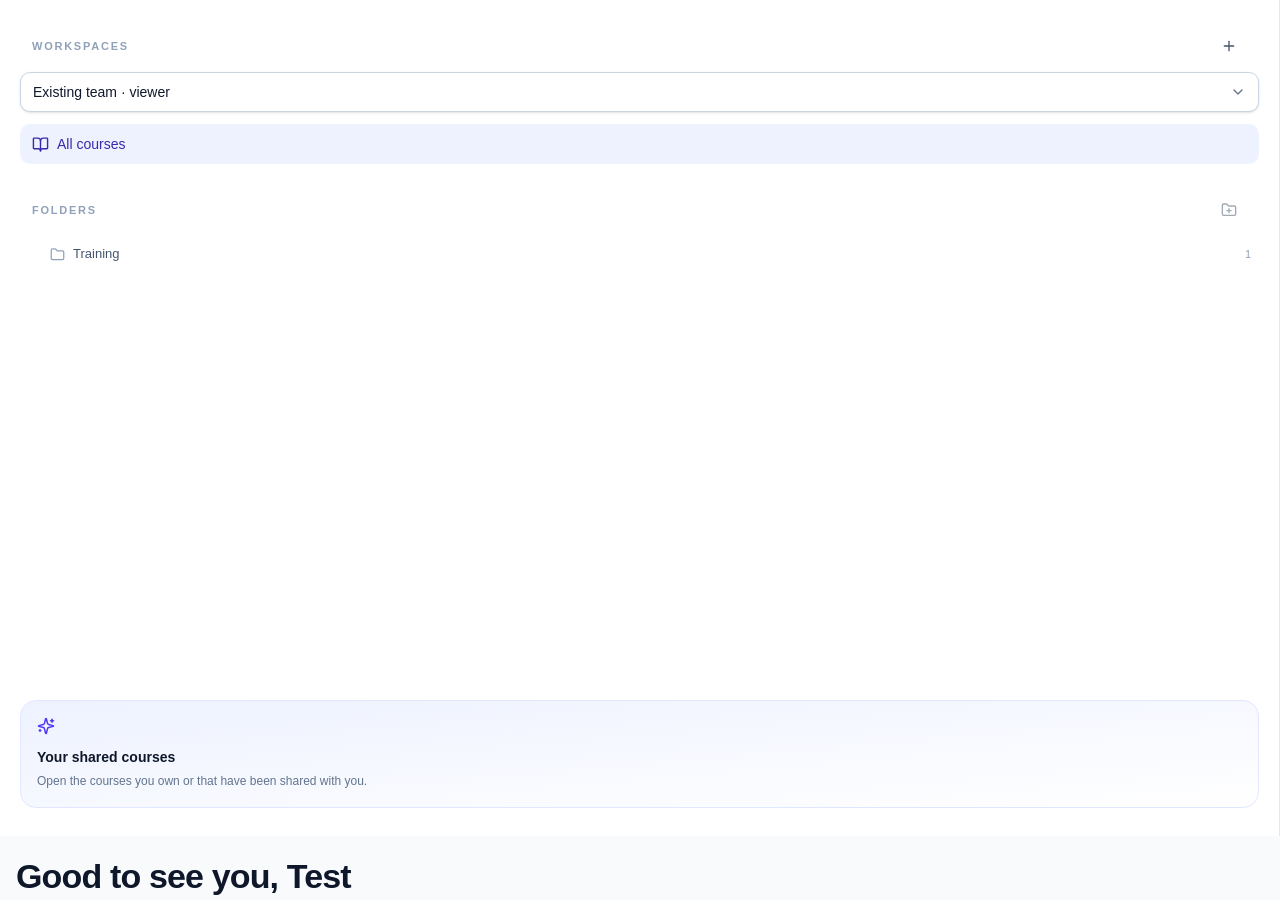
Test: dashboard loading and shared controls › creates a new workspace even when the current workspace grants viewer access
Step 1. Click the button named "Create team workspace" → point(1229, 46), box x1=1211 y1=28 x2=1247 y2=64
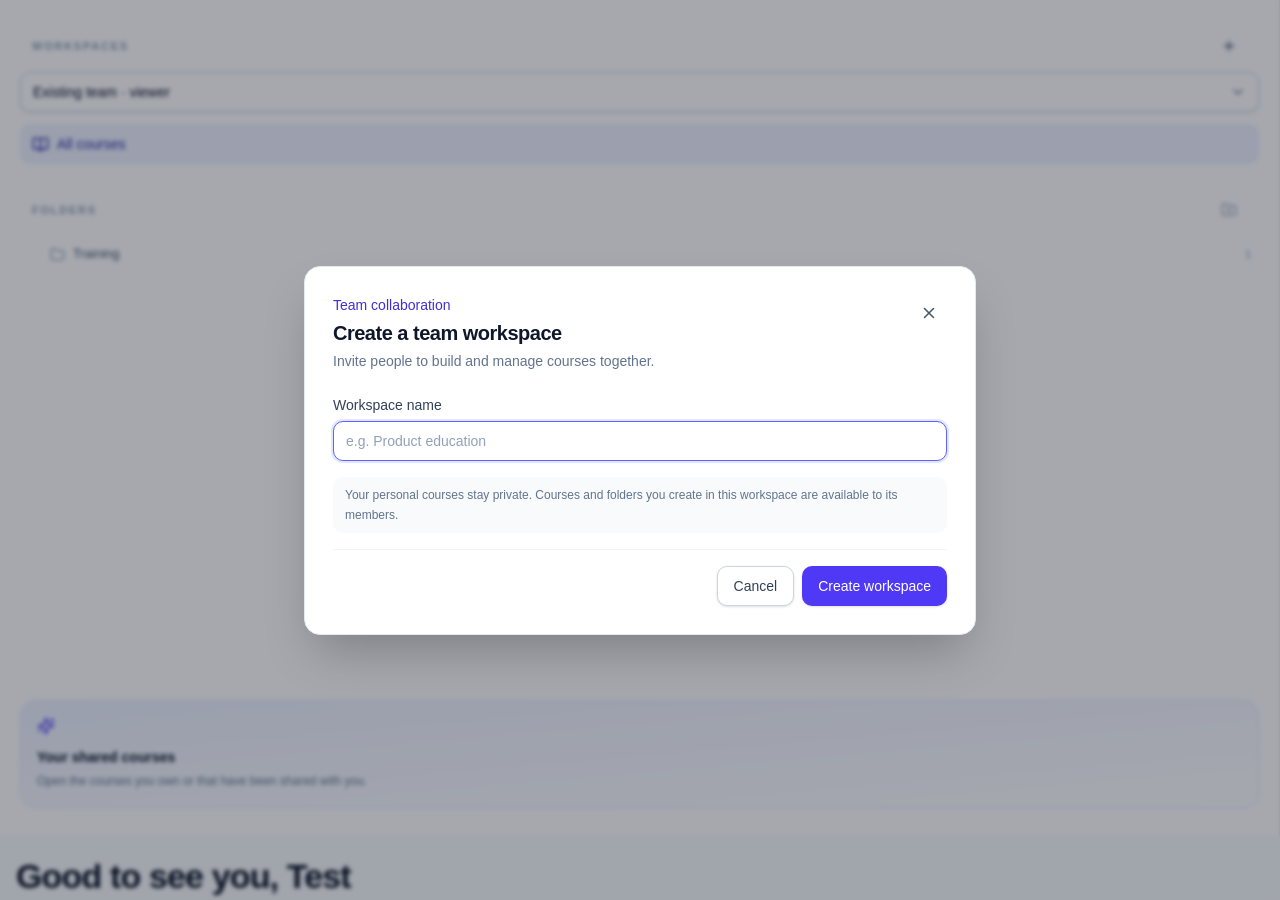
Step 2. Type "New team" into the field named "name" → point(640, 440), box x1=333 y1=420 x2=947 y2=460
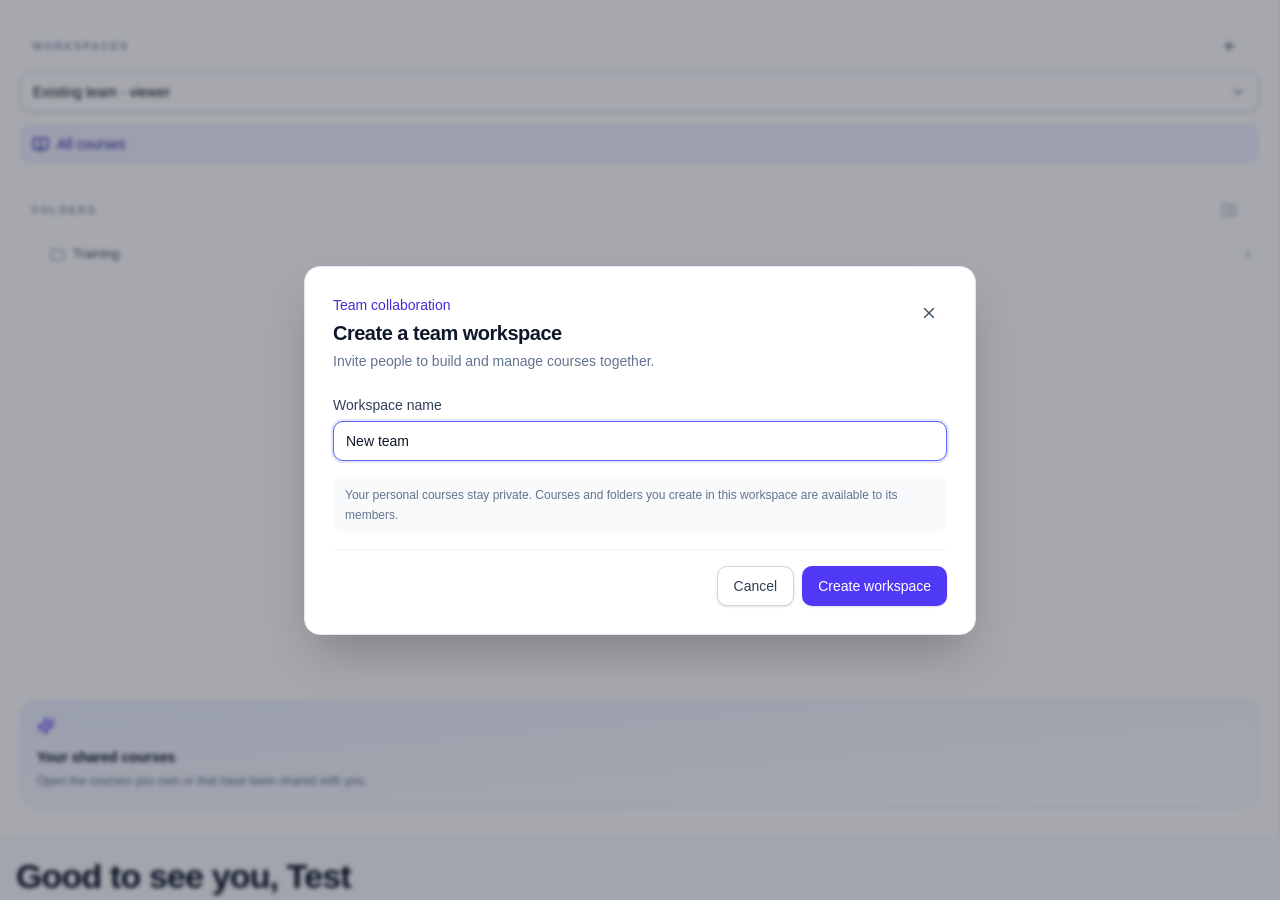
Step 3. Submit the form, box x1=333 y1=394 x2=947 y2=606
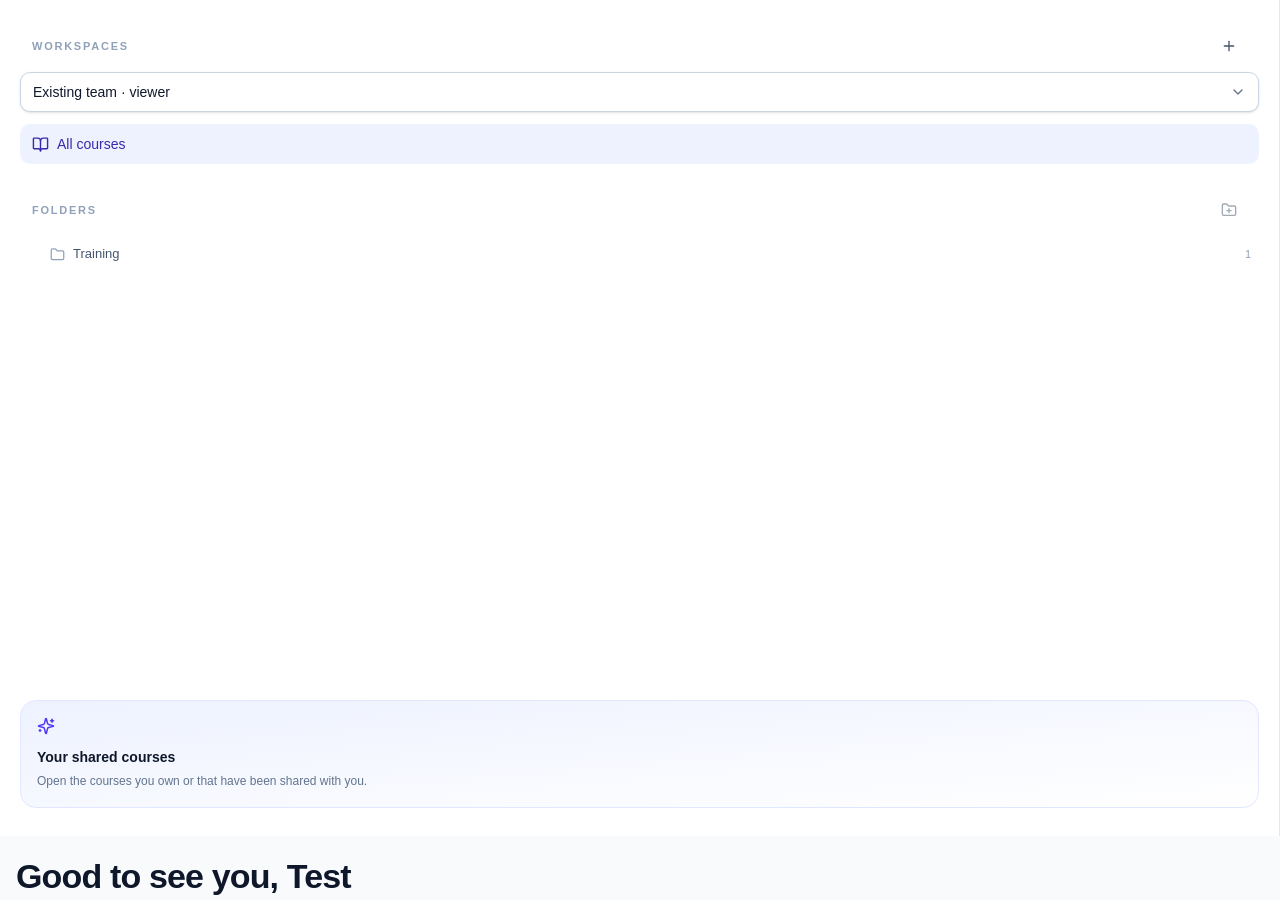
Expected: the button is gone
